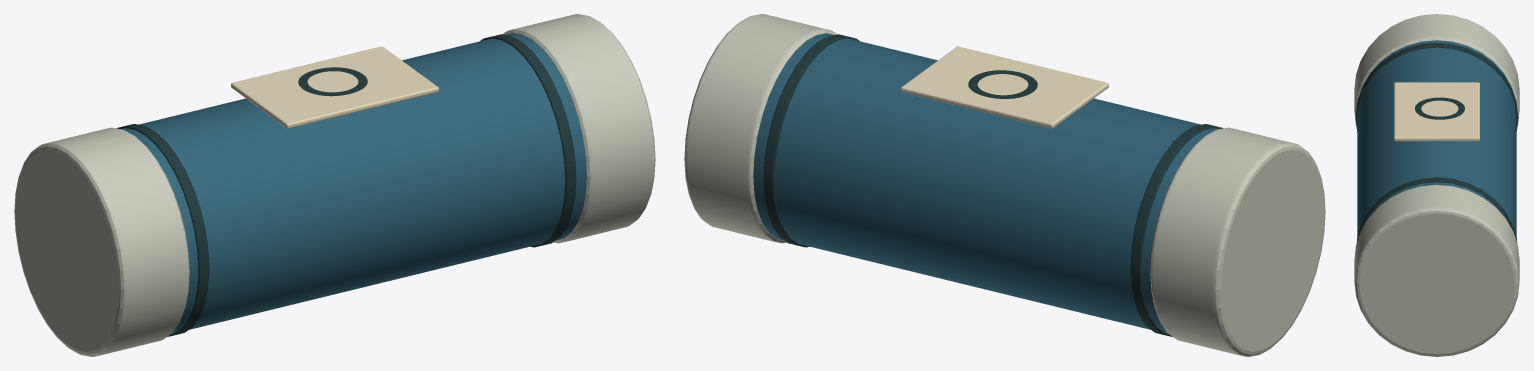
The model's file is fuse_blue.glb.
3 views of the same model, side by side, from view 1: azimuth 30°, elevation 25°; view 2: azimuth 150°, elevation 25°; view 3: azimuth 270°, elevation 25° (orthographic). The views are drawn at different scales.
Visible parts, largest first — view 1: fuse_blue; view 2: fuse_blue; view 3: fuse_blue.
Boxes of the visible parts, x1,y1,x2,y2 form: fuse_blue: (14, 14, 655, 356); fuse_blue: (684, 14, 1325, 356); fuse_blue: (1354, 14, 1519, 356).
Size of the model in its own units: 0.06 by 0.0216 by 0.0213.
